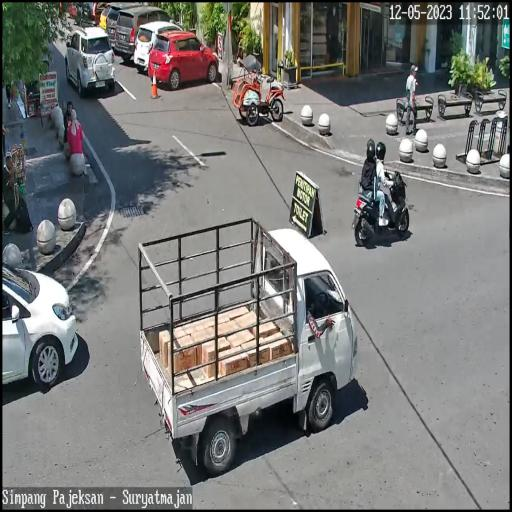mobil: (137, 217, 358, 473), (151, 29, 220, 89), (64, 25, 115, 97), (113, 8, 173, 52), (137, 18, 183, 75)
motor: (354, 170, 408, 246)
